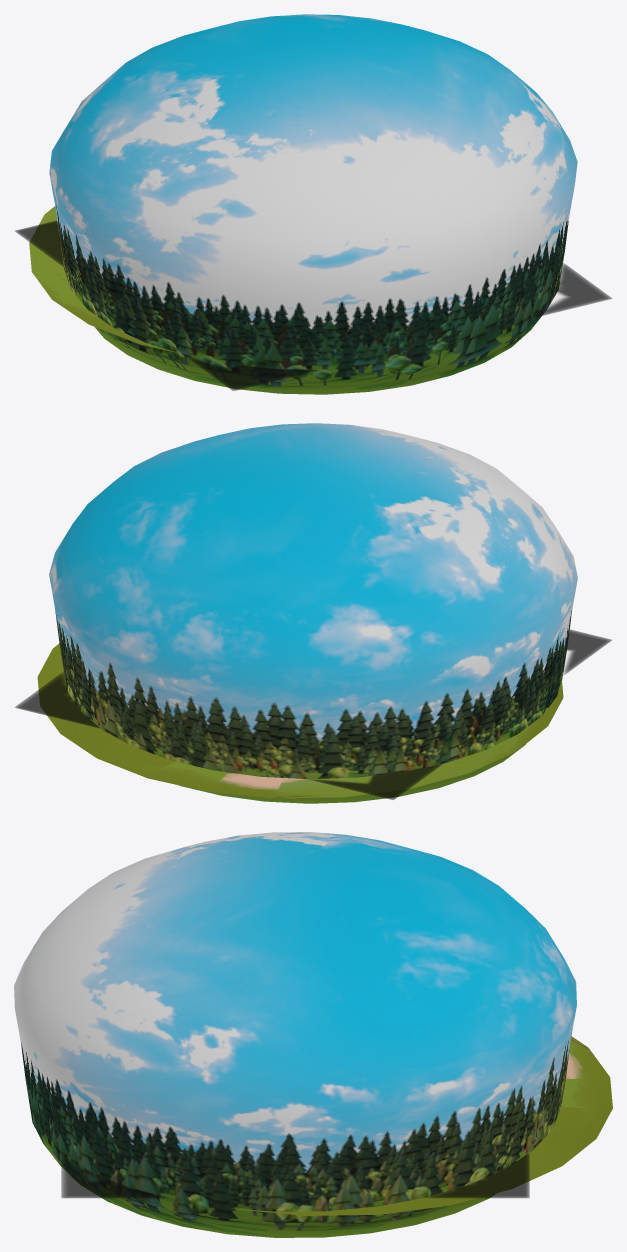
The model's file is gravity_falls.glb.
3 renders of one model, top to bottom at view 1: azimuth 30°, elevation 25°; view 2: azimuth 150°, elevation 25°; view 3: azimuth 270°, elevation 25°, orthographic. The views are drawn at different scales.
Parts seen in each view (by area): view 1: Skybox_5, Shadow_4, ground_1; view 2: Skybox_5, ground_1, Shadow_4; view 3: Skybox_5, ground_1, Shadow_4.
Part boxes in pixels (x1,y1,x2,y2): Skybox_5: [49, 14, 577, 394]; Shadow_4: [15, 220, 611, 390]; ground_1: [29, 206, 176, 352]; Skybox_5: [49, 423, 577, 803]; ground_1: [37, 643, 563, 798]; Shadow_4: [15, 629, 611, 799]; Skybox_5: [14, 832, 576, 1237]; ground_1: [231, 1036, 612, 1215]; Shadow_4: [61, 1154, 529, 1197].
Size of the model in its own units: 158 by 78.38 by 166.
Materials: 11 (11 with a texture image).
